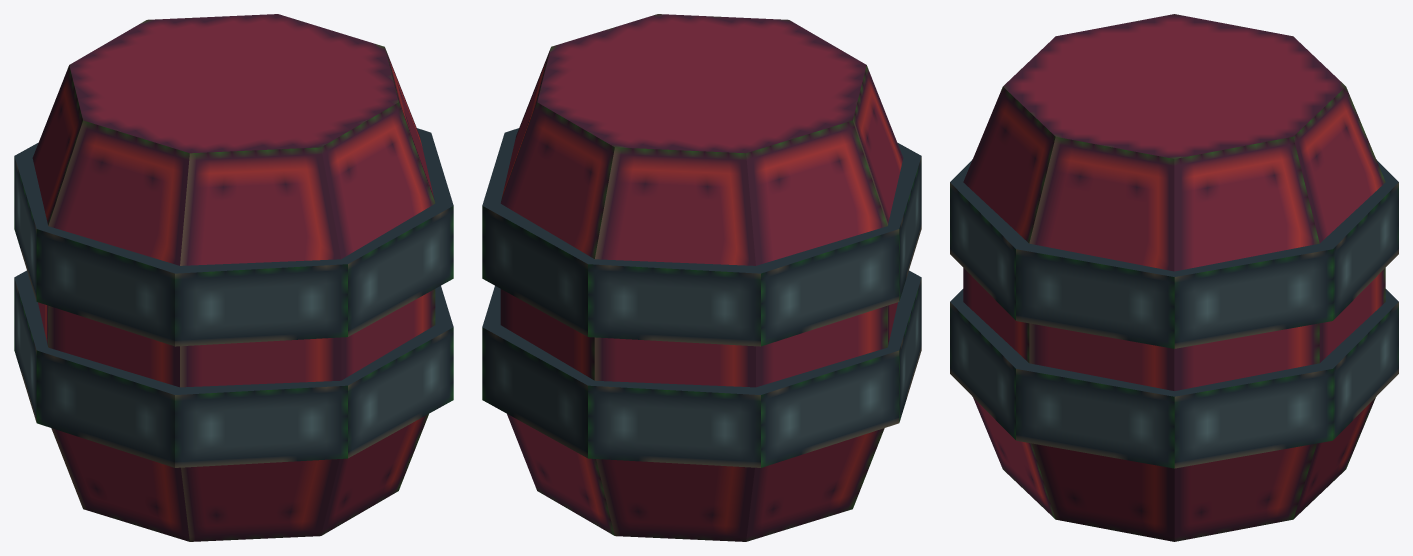
File: MiniExplosiveBarrel.fbx
3 renders of one model, left to right at view 1: azimuth 30°, elevation 25°; view 2: azimuth 150°, elevation 25°; view 3: azimuth 270°, elevation 25°, orthographic.
Visible parts, largest first — view 1: MiniExplosiveBarrel; view 2: MiniExplosiveBarrel; view 3: MiniExplosiveBarrel.
Part boxes in pixels (x1,y1,x2,y2): MiniExplosiveBarrel: (14,14,453,541); MiniExplosiveBarrel: (482,14,921,541); MiniExplosiveBarrel: (950,14,1398,541).
Size of the model in its own units: 106 by 100 by 106.
